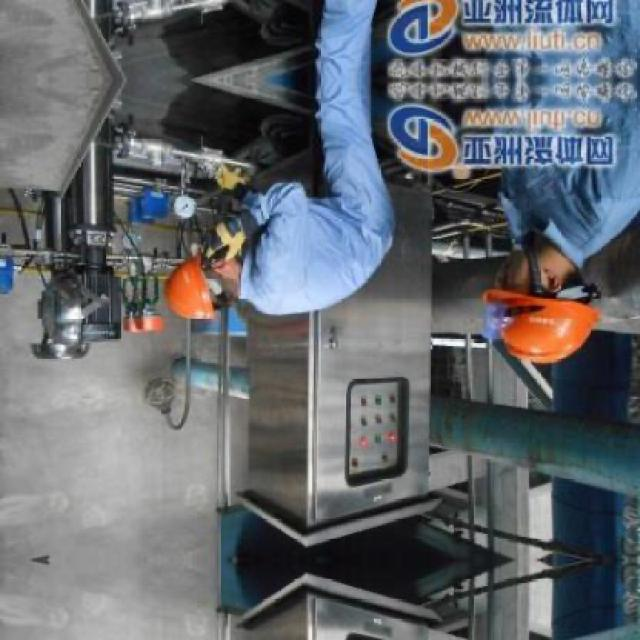con casco: (460, 218, 616, 382), (145, 216, 265, 333)
